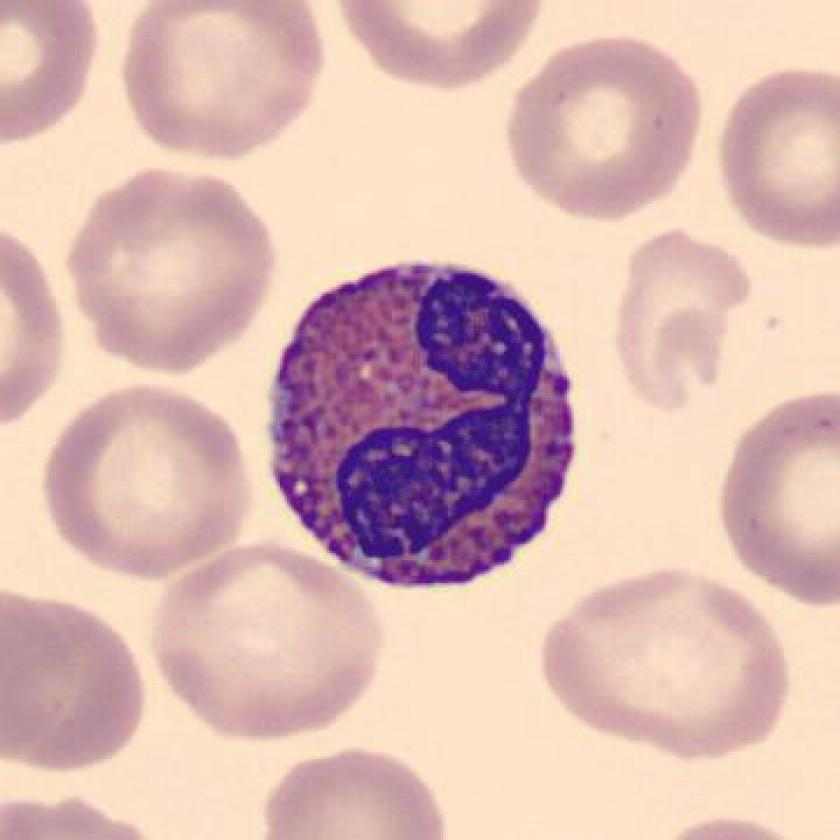eosinophil: (253, 249, 591, 603)
